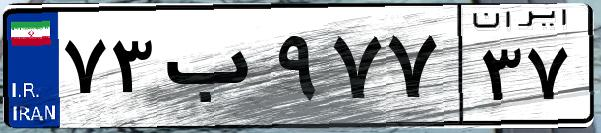3: (475, 38, 525, 113), (110, 28, 158, 98)
7: (385, 28, 445, 110), (330, 28, 385, 110), (57, 26, 110, 100), (525, 38, 570, 115)
9: (270, 28, 330, 110)
ب: (158, 20, 270, 120)
